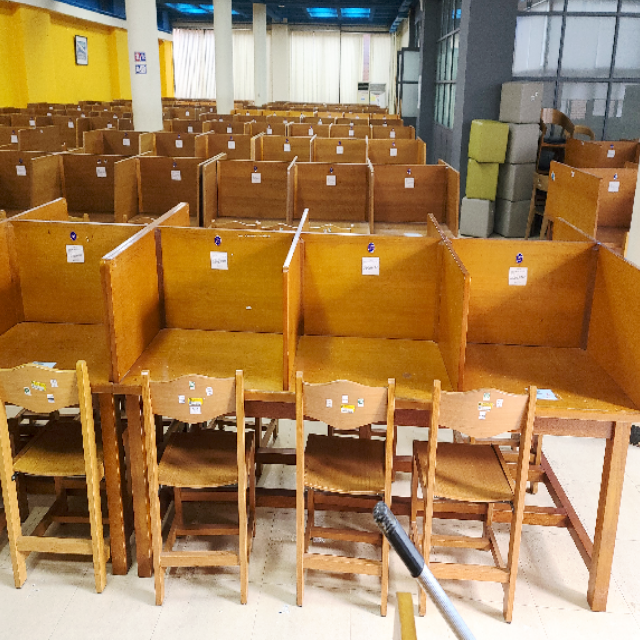empty: (106, 224, 284, 485), (291, 227, 459, 499), (469, 228, 628, 497)
